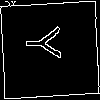Y: (25, 25, 70, 61)
